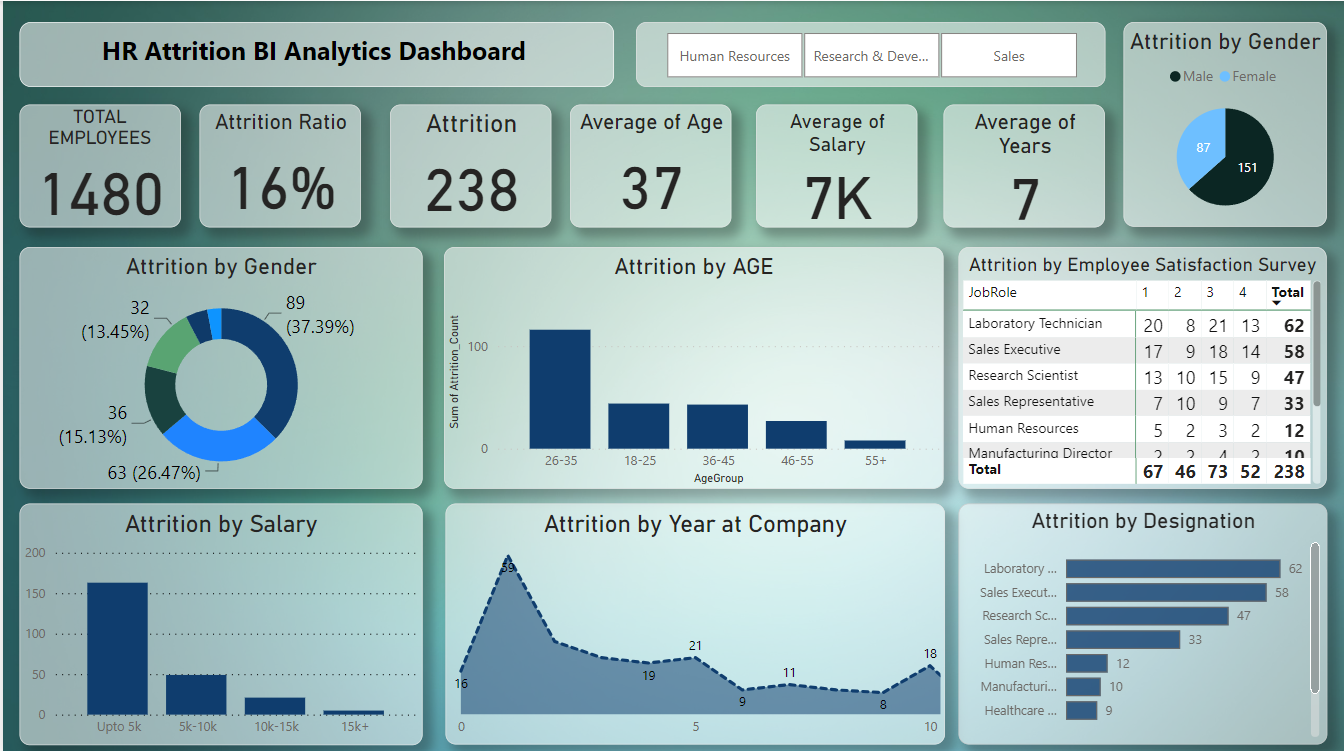

Layout of this report page (visuals, bound fields, positions):
{"tool":"powerbi","page":{"name":"HR ATTRITION","canvas":[1280,720],"ordinal":0},"visuals":[{"type":"textbox","box":[15.9,20.7,567.4,62],"z":0},{"type":"slicer","fields":{"Values":["HR_Analytics.Department"]},"box":[604,20.7,448.2,62],"z":1000},{"type":"card","title":"TOTAL EMPLOYEES","fields":{"Values":["Sum(HR_Analytics.EmployeeCount)"]},"box":[15.9,98.5,154.2,117.6],"z":2000},{"type":"card","title":"Attrition Ratio","fields":{"Values":["HR_Analytics.Attrition Ratio"]},"box":[187.5,98.5,154.2,117.6],"z":3000},{"type":"card","title":"Attrition","fields":{"Values":["Sum(HR_Analytics.Attrition_Count)"]},"box":[368.7,98.5,154.2,117.6],"z":4000},{"type":"card","title":"Average of Age","fields":{"Values":["Avg(HR_Analytics.Age)"]},"box":[540.4,98.5,154.2,117.6],"z":5000},{"type":"card","title":"Average of Years","fields":{"Values":["Avg(HR_Analytics.YearsAtCompany)"]},"box":[898,98.5,154.2,117.6],"z":6000},{"type":"card","title":"Average of Salary","fields":{"Values":["Avg(HR_Analytics.MonthlyIncome)"]},"box":[718.4,98.5,154.2,117.6],"z":7000},{"type":"pieChart","title":"Attrition by Gender","fields":{"Category":["HR_Analytics.Gender"],"Y":["Sum(HR_Analytics.Attrition_Count)"]},"box":[1069.7,20.7,193.9,195.5],"z":8000},{"type":"donutChart","title":"Attrition by Field","fields":{"Category":["HR_Analytics.EducationField"],"Y":["Sum(HR_Analytics.Attrition_Count)"]},"box":[15.9,235.2,384.6,230.5],"z":9000},{"type":"columnChart","title":"Attrition by AGE","fields":{"Y":["Sum(HR_Analytics.Attrition_Count)"],"Category":["HR_Analytics.AgeGroup"]},"box":[421.2,235.2,476.8,230.5],"z":10000},{"type":"pivotTable","title":"Attrition by Employee Satisfaction Survey","fields":{"Values":["Sum(HR_Analytics.Attrition_Count)"],"Rows":["HR_Analytics.JobRole"],"Columns":["HR_Analytics.JobSatisfaction"]},"box":[912.3,235.2,351.3,230.5],"z":11000},{"type":"columnChart","title":"Attrition by Salary","fields":{"Y":["Sum(HR_Analytics.Attrition_Count)"],"Category":["HR_Analytics.SalarySlab"]},"box":[15.9,480,384.6,230.5],"z":12000},{"type":"areaChart","title":"Attrition by Year at Company","fields":{"Category":["HR_Analytics.YearsAtCompany"],"Y":["Sum(HR_Analytics.Attrition_Count)"]},"box":[421.7,480,476.7,230],"z":13000},{"type":"clusteredBarChart","title":"Attrition by Designation","fields":{"Category":["HR_Analytics.JobRole"],"Y":["Sum(HR_Analytics.Attrition_Count)"]},"box":[911.7,480,351.7,230],"z":14000}]}

Visuals, with their boxes in screenshot pixels (x1, y1, x2, y2), scaled from the page's 1280x720 canvas onto the 1344x751 screenshot:
textbox: <bbox>17, 22, 612, 86</bbox>
slicer - HR_Analytics.Department: <bbox>634, 22, 1105, 86</bbox>
"TOTAL EMPLOYEES" card: <bbox>17, 103, 179, 225</bbox>
"Attrition Ratio" card: <bbox>197, 103, 359, 225</bbox>
"Attrition" card: <bbox>387, 103, 549, 225</bbox>
"Average of Age" card: <bbox>567, 103, 729, 225</bbox>
"Average of Years" card: <bbox>943, 103, 1105, 225</bbox>
"Average of Salary" card: <bbox>754, 103, 916, 225</bbox>
"Attrition by Gender" pieChart: <bbox>1123, 22, 1327, 226</bbox>
"Attrition by Field" donutChart: <bbox>17, 245, 421, 486</bbox>
"Attrition by AGE" columnChart: <bbox>442, 245, 943, 486</bbox>
"Attrition by Employee Satisfaction Survey" pivotTable: <bbox>958, 245, 1327, 486</bbox>
"Attrition by Salary" columnChart: <bbox>17, 501, 421, 741</bbox>
"Attrition by Year at Company" areaChart: <bbox>443, 501, 943, 741</bbox>
"Attrition by Designation" clusteredBarChart: <bbox>957, 501, 1327, 741</bbox>
